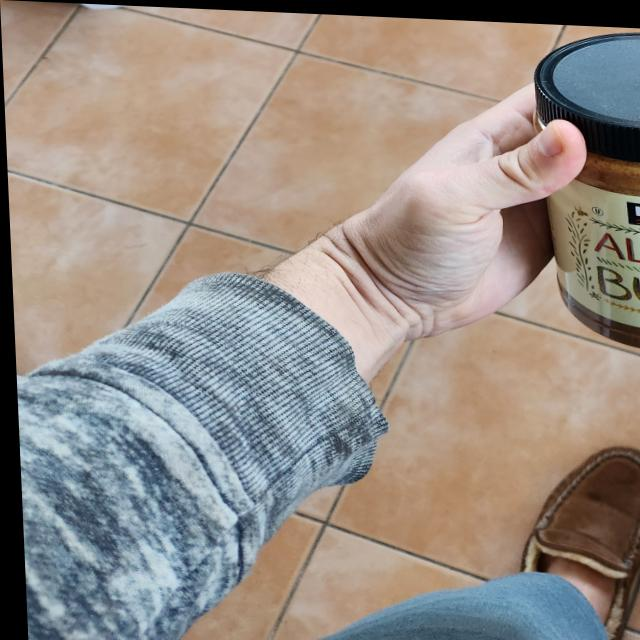almond butter: (531, 22, 640, 347)
